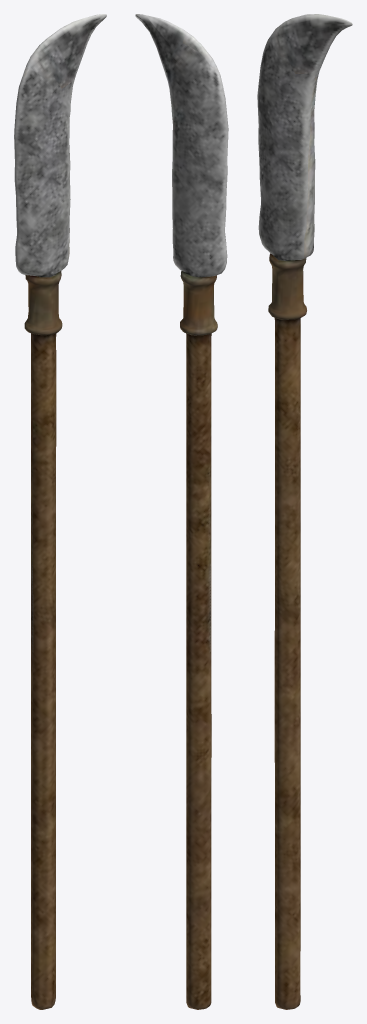
Rendered from Glaive_SR.glb.
The picture shows the model from 3 angles, left to right: view 1: azimuth 30°, elevation 25°; view 2: azimuth 150°, elevation 25°; view 3: azimuth 330°, elevation 25°; orthographic projection. The views are drawn at different scales.
Parts seen in each view (by area): view 1: Glaive.001; view 2: Glaive.001; view 3: Glaive.001.
Boxes of the visible parts, x1,y1,x2,y2 form: Glaive.001: [14, 14, 106, 1009]; Glaive.001: [135, 14, 228, 1009]; Glaive.001: [257, 14, 352, 1009].
Bounding box in the file's own units: 0.2392 × 2.42 × 0.0886.
1 material, 1 textured.
